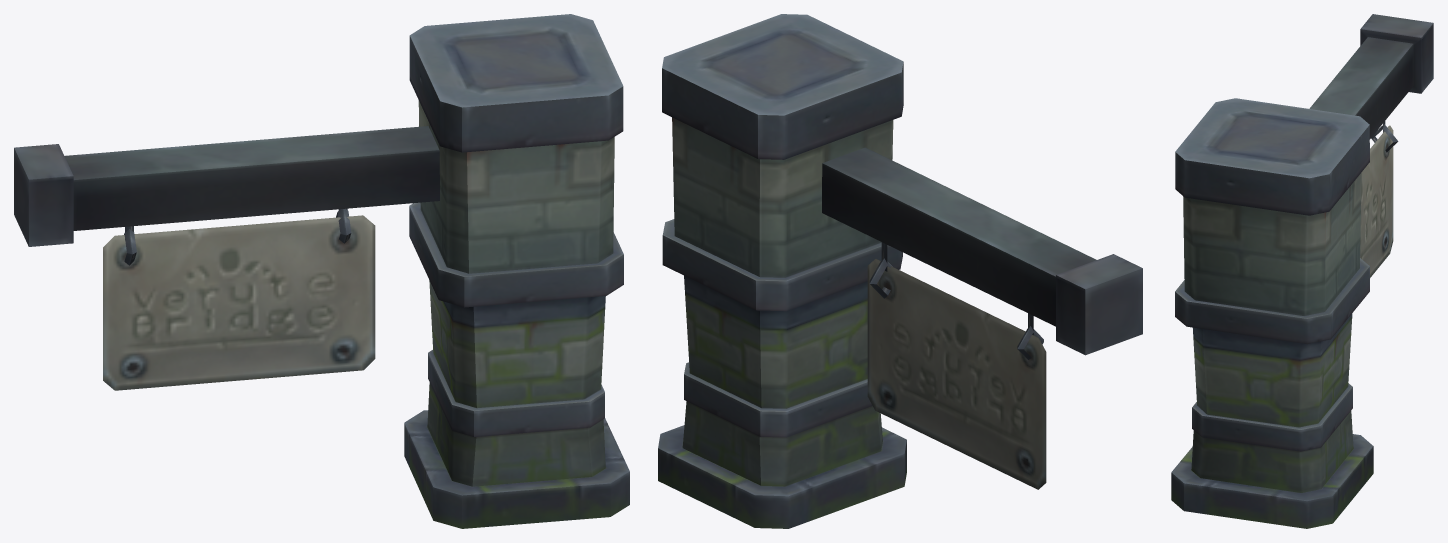
Rendered from scene_lawennushandao_lupai01.FBX.
The picture shows the model from 3 angles, left to right: view 1: azimuth 30°, elevation 25°; view 2: azimuth 150°, elevation 25°; view 3: azimuth 270°, elevation 25°; orthographic projection. The views are drawn at different scales.
Parts seen in each view (by area): view 1: scene_lawennushandao_lupai01; view 2: scene_lawennushandao_lupai01; view 3: scene_lawennushandao_lupai01.
Boxes of the visible parts, x1,y1,x2,y2 form: scene_lawennushandao_lupai01: (14, 14, 629, 528); scene_lawennushandao_lupai01: (658, 14, 1142, 528); scene_lawennushandao_lupai01: (1171, 14, 1433, 528).
Size of the model in its own units: 265 by 200 by 137.
